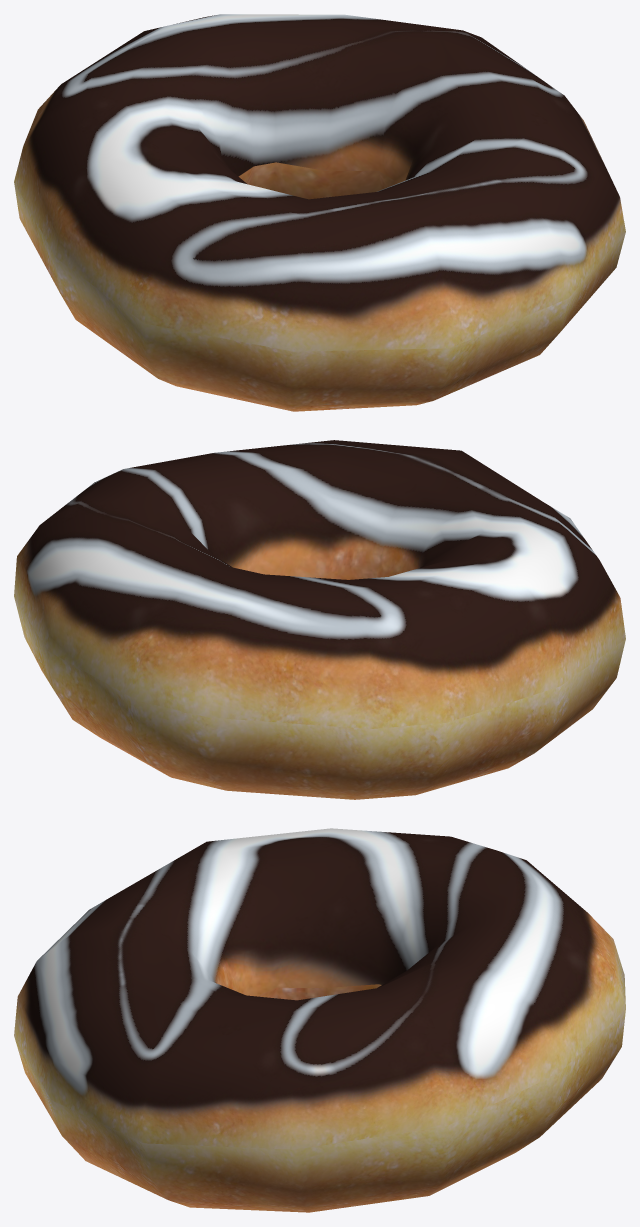
Rendered from Donut3LP.obj.
The picture shows the model from 3 angles, top to bottom: view 1: azimuth 30°, elevation 25°; view 2: azimuth 150°, elevation 25°; view 3: azimuth 270°, elevation 25°; orthographic projection.
Parts seen in each view (by area): view 1: donut071; view 2: donut071; view 3: donut071.
Part boxes in pixels (left/top/right/bottom): donut071: left=14, top=14, right=625, bottom=411; donut071: left=14, top=440, right=625, bottom=799; donut071: left=14, top=828, right=625, bottom=1212.
Bounding box in the file's own units: 9.42 × 3.94 × 9.78.
1 material, 1 textured.
